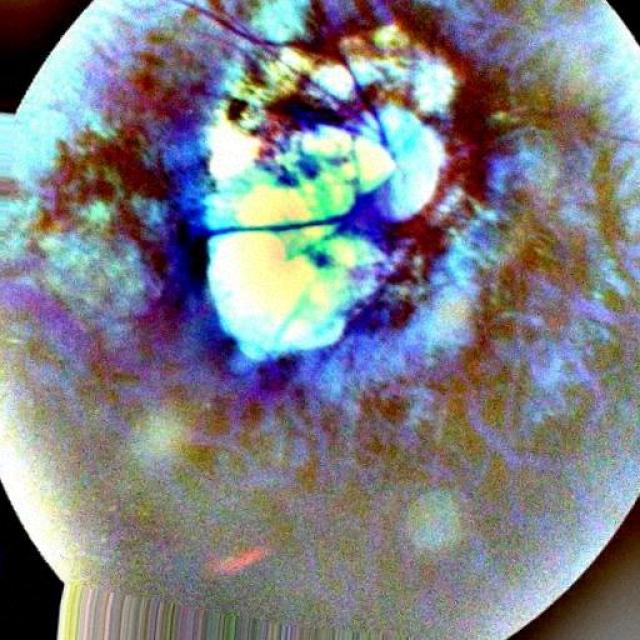Nerves: (322, 32, 393, 155), (199, 206, 359, 239)
Optic Disk: (324, 109, 451, 223)
